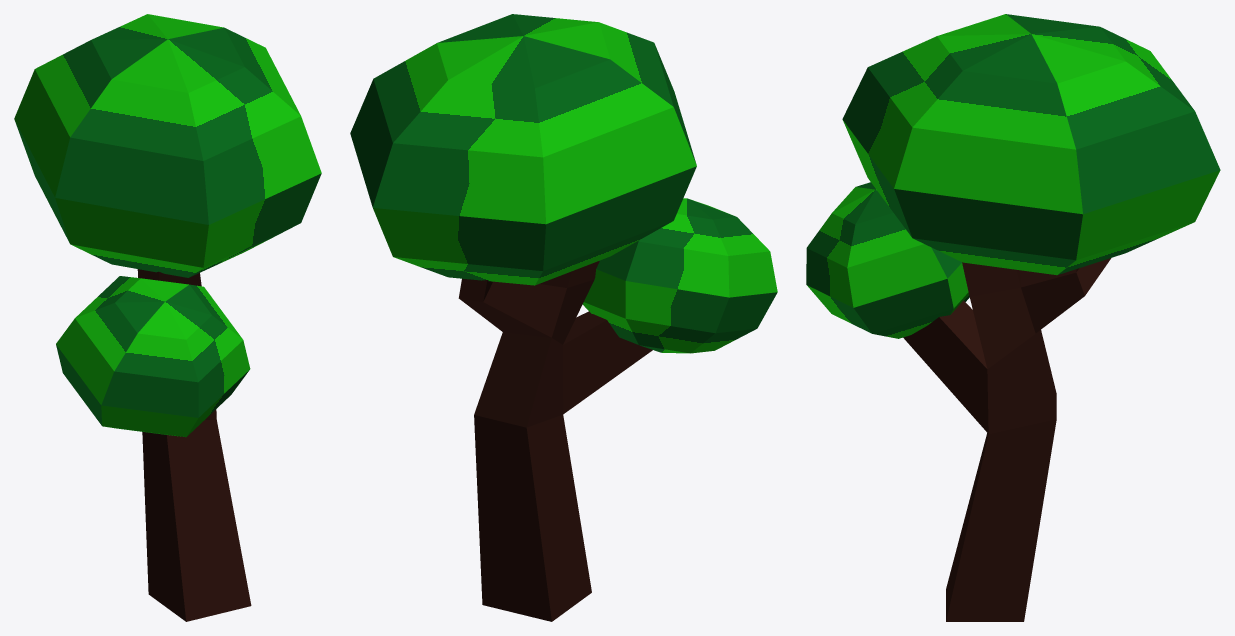
The model's file is tree.obj.
3 renders of one model, left to right at view 1: azimuth 30°, elevation 25°; view 2: azimuth 150°, elevation 25°; view 3: azimuth 270°, elevation 25°, orthographic. The views are drawn at different scales.
Visible parts, largest first — view 1: biggerleaf, smallleaf, stem; view 2: biggerleaf, stem, smallleaf; view 3: biggerleaf, stem, smallleaf.
Boxes of the visible parts, x1,y1,x2,y2 form: biggerleaf: [14, 14, 321, 277]; smallleaf: [56, 276, 250, 437]; stem: [137, 269, 251, 621]; biggerleaf: [350, 14, 696, 285]; stem: [458, 261, 652, 621]; smallleaf: [582, 198, 777, 353]; biggerleaf: [842, 14, 1220, 275]; stem: [903, 258, 1111, 621]; smallleaf: [806, 182, 969, 338].
Bounding box in the file's own units: 3.97 × 7.15 × 4.74.
Materials: 2 (1 with a texture image).
